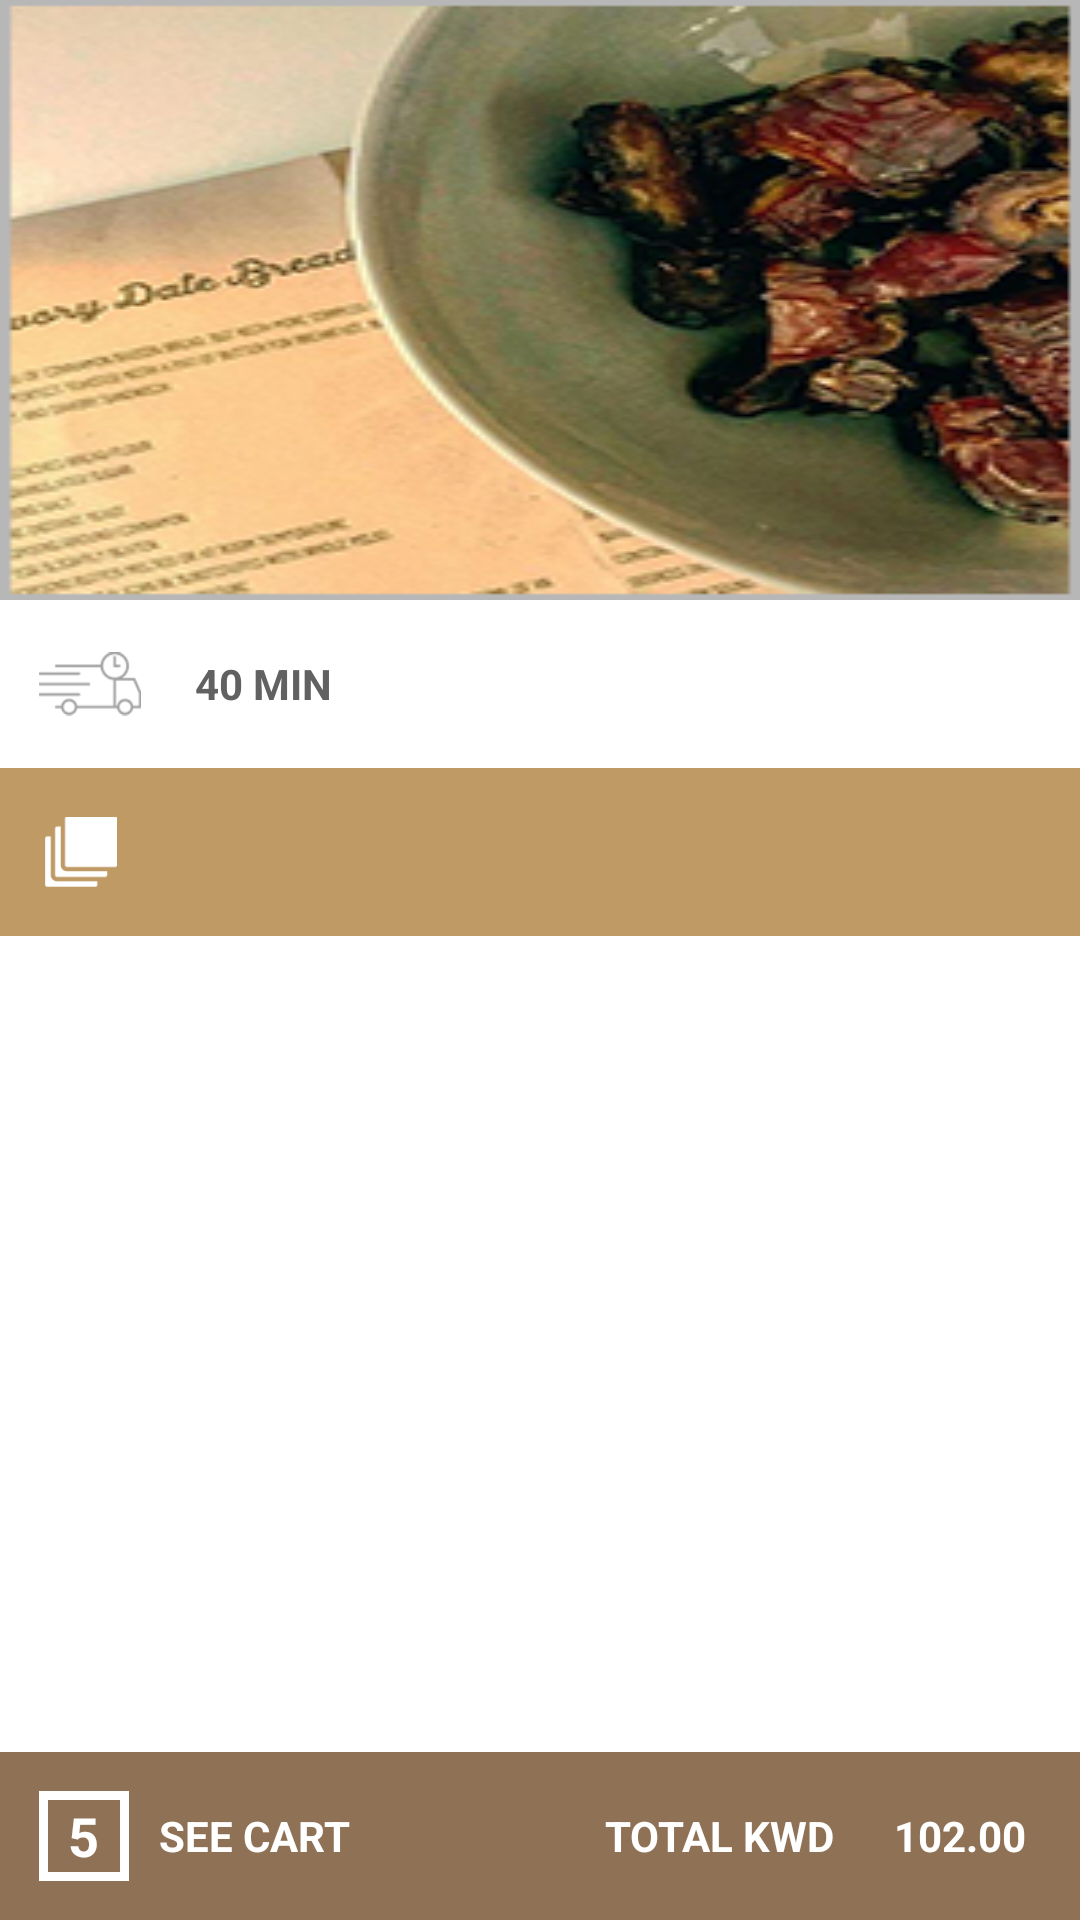

Screen size 1080 x 1920. Icon name, then its center in pixels as (x=x, y=y):
product cat: (x=81, y=852)
